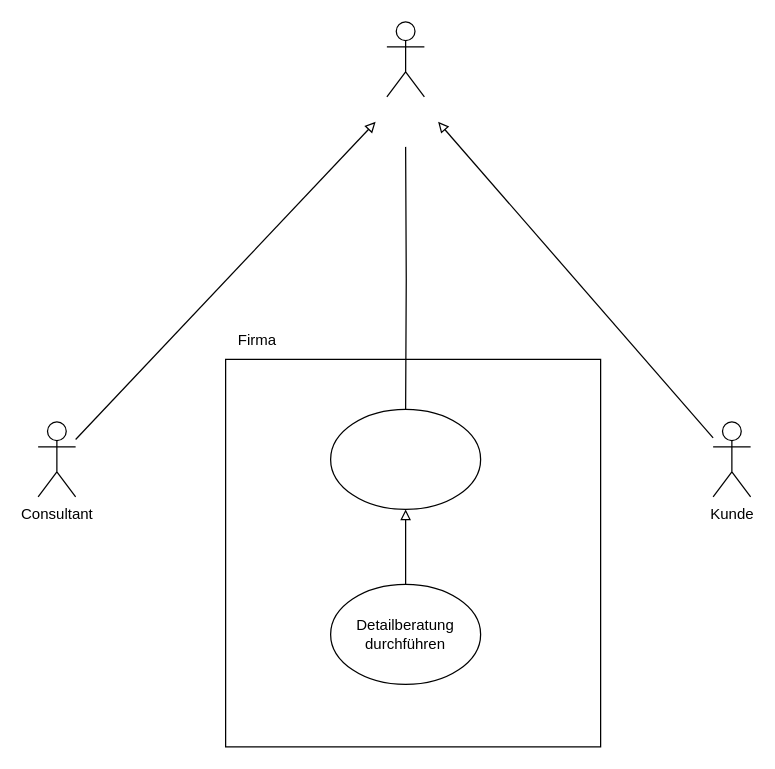
This 775x769 diagram has some shape labels left out. The shapes that lost their labels are listed below. From the top down, each one's box as (x1, y1, x2, y2) in pixels, then its label:
(386, 21, 424, 97): Person
(329, 408, 481, 509): Beratung durchführen
